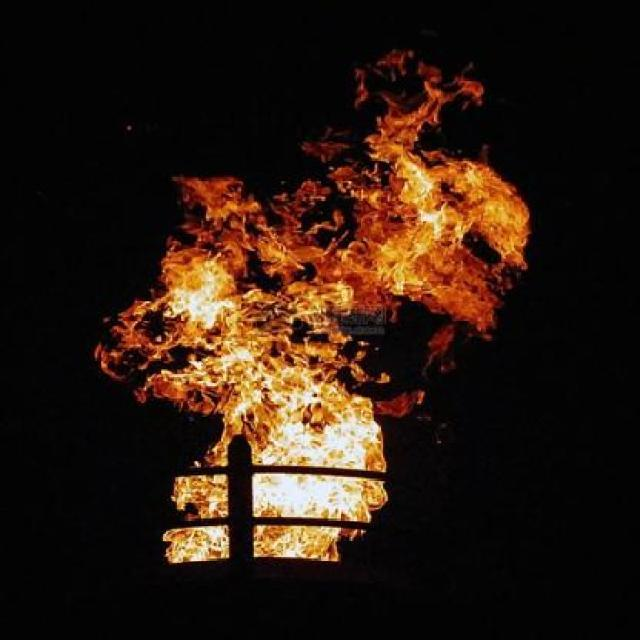Fire: (91, 46, 528, 560)
